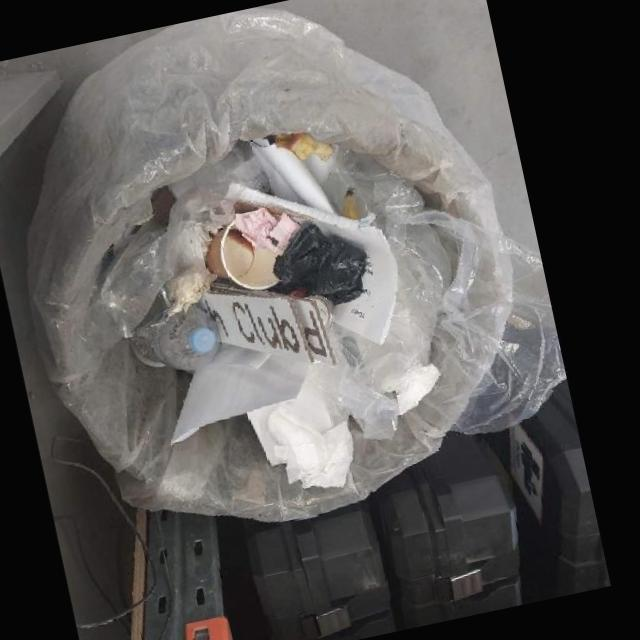carton: (203, 281, 336, 364)
chai_nhua_pet: (131, 301, 223, 369)
giay: (171, 342, 310, 444), (244, 137, 377, 227), (311, 211, 399, 344), (265, 397, 354, 487), (162, 258, 218, 314)
nhom: (304, 294, 335, 334)
thuc_an_thua: (274, 131, 335, 161)
tui_ni_long: (306, 142, 568, 450)
